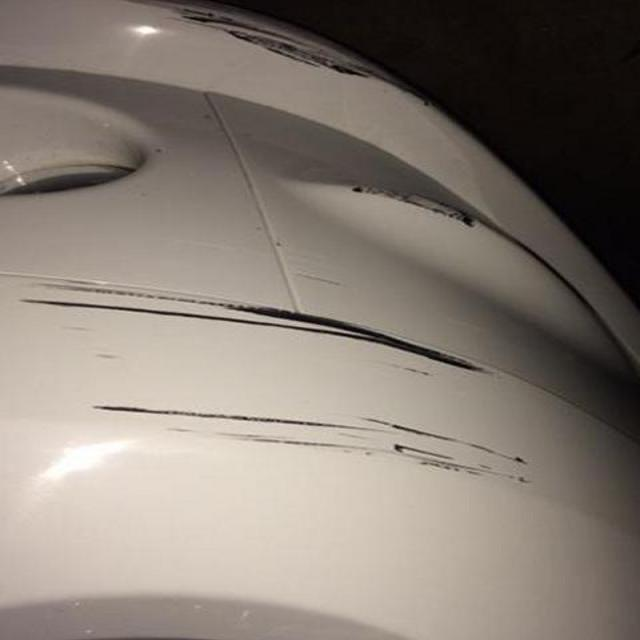scratch: (12, 260, 572, 500), (70, 0, 428, 98)
